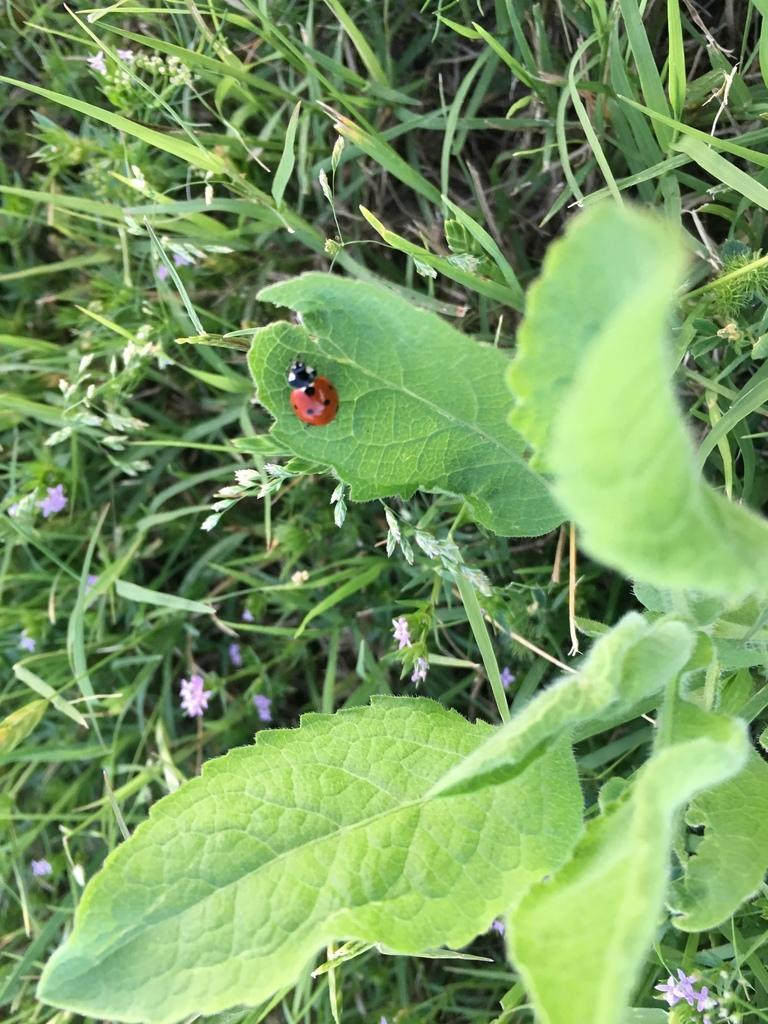ladybug: (287, 357, 343, 428)
